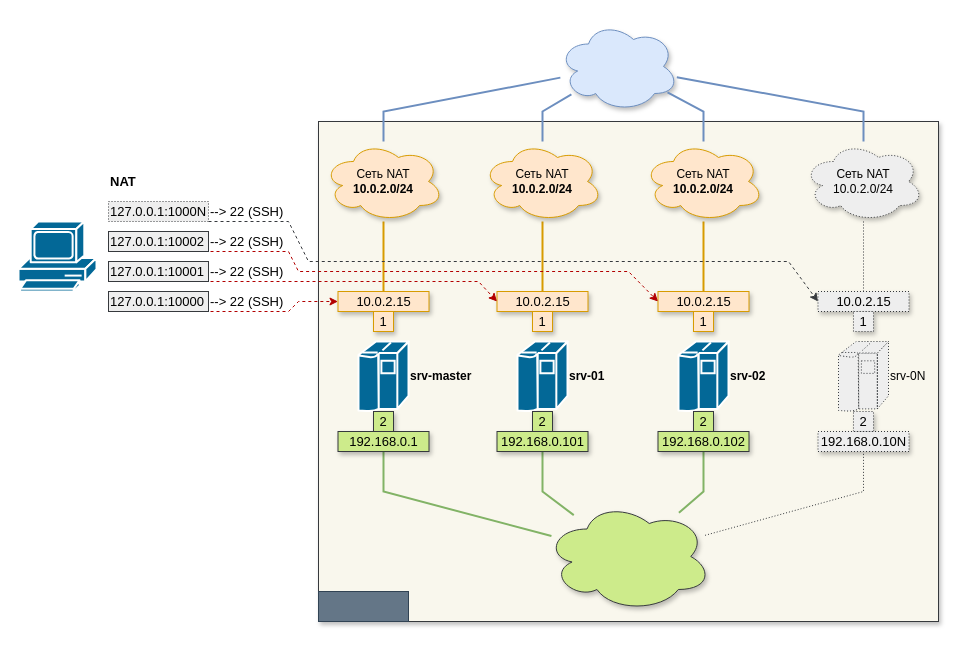
Some shapes in this 962 by 646 pixel diagram are drawn without their labels. The centre of each missing label's shape, as x and y in pixels:
192.168.0.0/24 Внутренняя сеть intnet: the point at 629,557
Host PC: the point at 57,256
VirtualBox: the point at 363,606
Интернет: the point at 619,67
